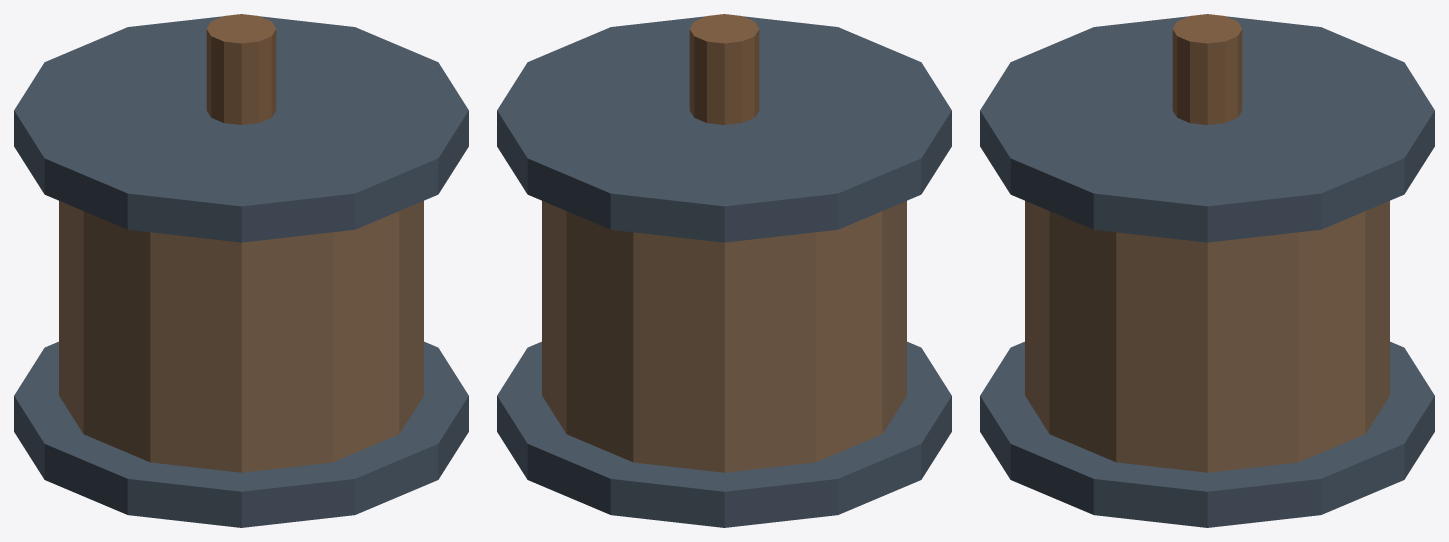
Rendered from L-45_rope_drum.glb.
3 renders of one model, left to right at view 1: azimuth 30°, elevation 25°; view 2: azimuth 150°, elevation 25°; view 3: azimuth 270°, elevation 25°, orthographic.
Visible parts, largest first — view 1: L-45_rope_drum; view 2: L-45_rope_drum; view 3: L-45_rope_drum.
Boxes of the visible parts, x1,y1,x2,y2 form: L-45_rope_drum: [14, 14, 468, 527]; L-45_rope_drum: [497, 14, 951, 527]; L-45_rope_drum: [980, 14, 1434, 527].
Bounding box in the file's own units: 0.182 × 0.178 × 0.182.
